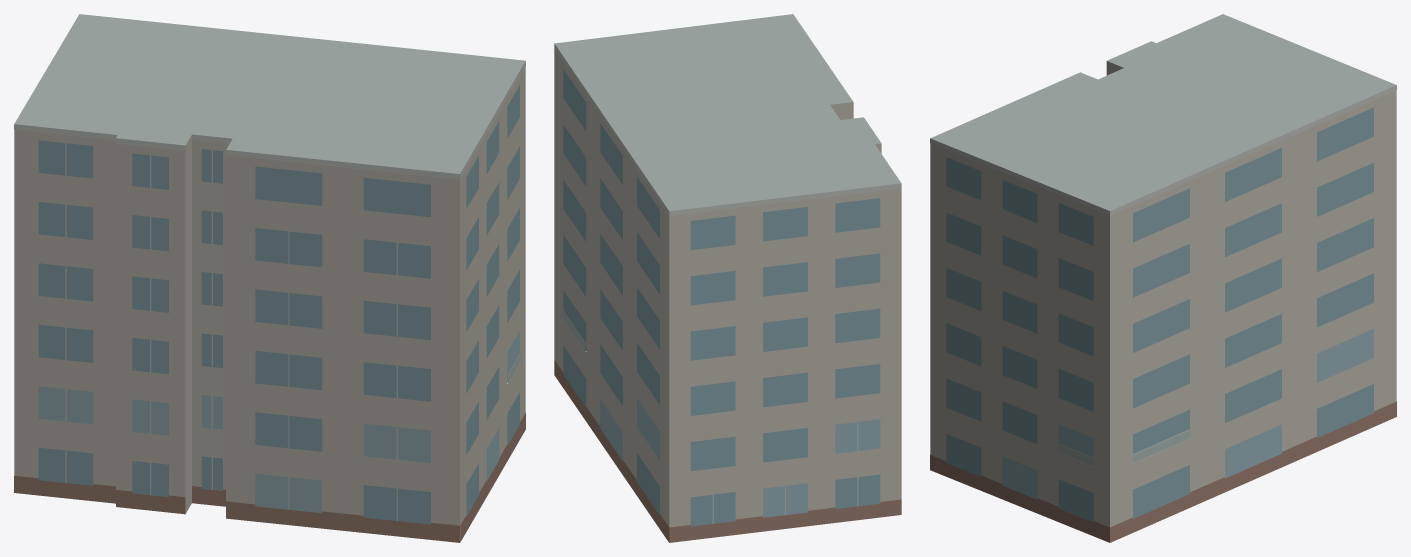
The model's file is survey-upis-32747439.glb.
The picture shows the model from 3 angles, left to right: view 1: azimuth 30°, elevation 25°; view 2: azimuth 150°, elevation 25°; view 3: azimuth 270°, elevation 25°; orthographic projection. The views are drawn at different scales.
Visible parts, largest first — view 1: survey-upis-32747439.tmp; view 2: survey-upis-32747439.tmp; view 3: survey-upis-32747439.tmp.
Part boxes in pixels (left/top/right/bottom): survey-upis-32747439.tmp: left=14, top=14, right=525, bottom=542; survey-upis-32747439.tmp: left=554, top=14, right=901, bottom=542; survey-upis-32747439.tmp: left=930, top=14, right=1396, bottom=542.
Bounding box in the file's own units: 20.64 × 16.2 × 20.65.
